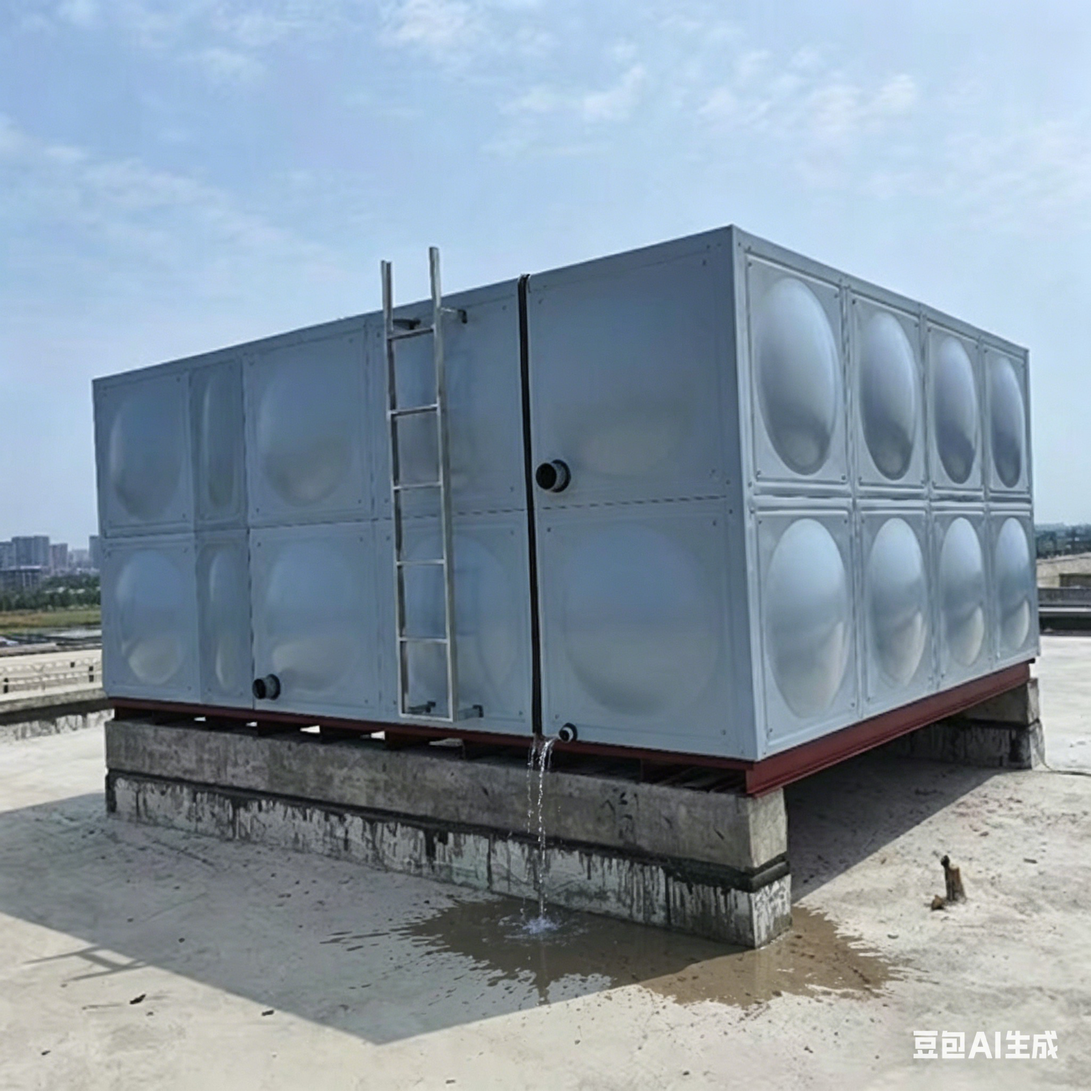Leakage: (517, 722, 618, 973), (628, 927, 884, 1007), (395, 882, 507, 965)
